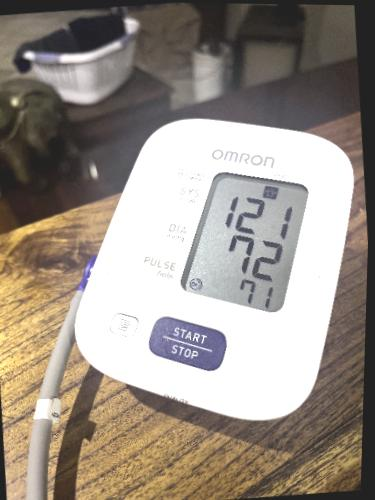bpm: (173, 158, 317, 320)
